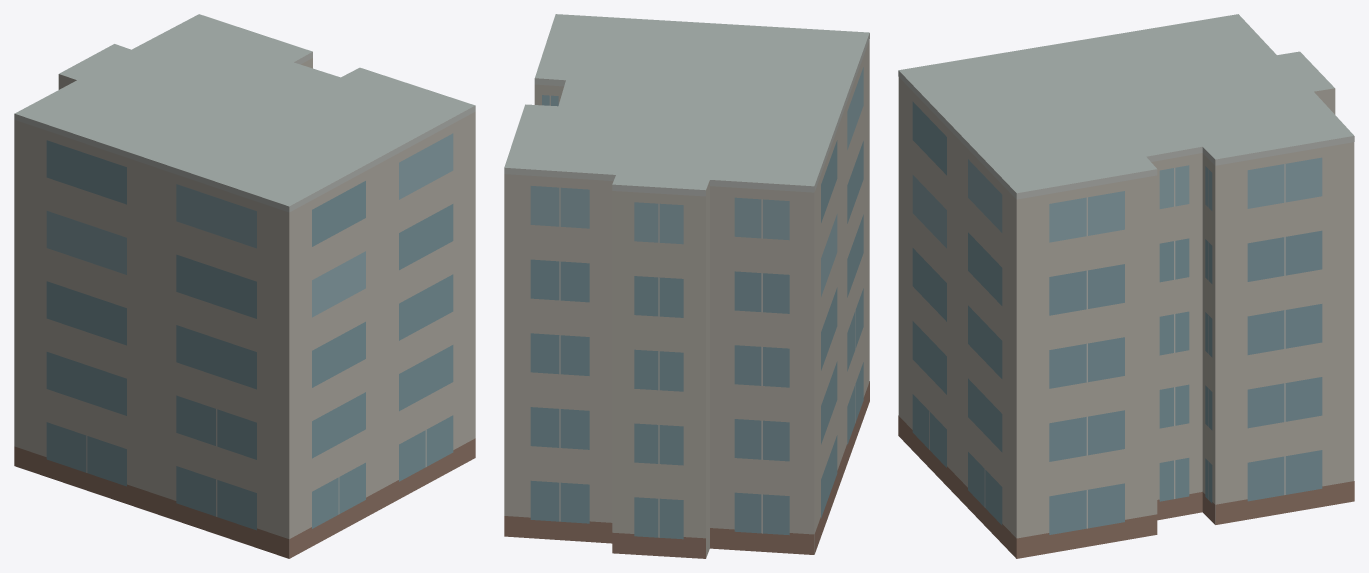
Rendered from survey-upis-32746405.glb.
3 renders of one model, left to right at view 1: azimuth 30°, elevation 25°; view 2: azimuth 150°, elevation 25°; view 3: azimuth 270°, elevation 25°, orthographic. The views are drawn at different scales.
Parts seen in each view (by area): view 1: survey-upis-32746405.tmp; view 2: survey-upis-32746405.tmp; view 3: survey-upis-32746405.tmp.
Boxes of the visible parts, <box> form: survey-upis-32746405.tmp: <box>14,14,475,558</box>; survey-upis-32746405.tmp: <box>504,14,869,558</box>; survey-upis-32746405.tmp: <box>898,14,1354,558</box>.
Size of the model in its own units: 14.95 by 14.2 by 16.06.
